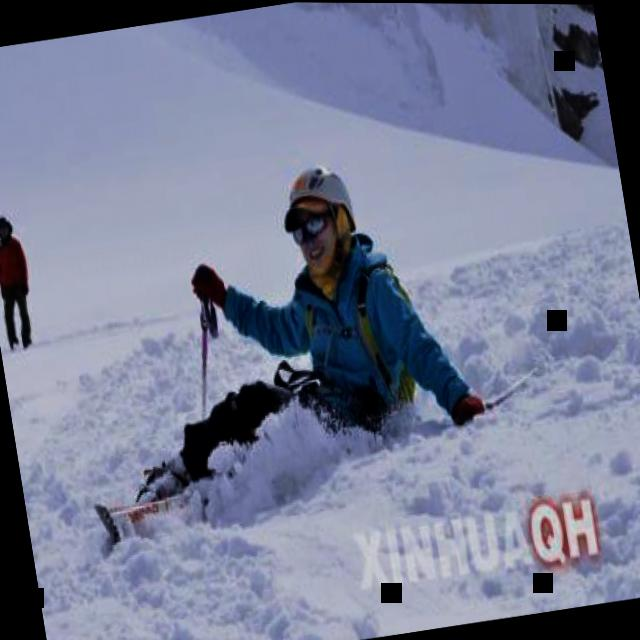Fall-Detected: (74, 122, 502, 555)
